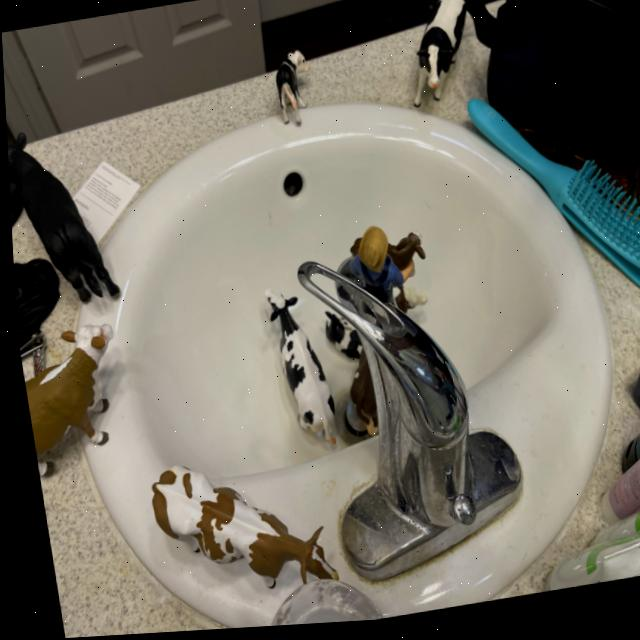cow: (127, 458, 349, 615), (0, 126, 119, 315), (14, 322, 124, 453), (258, 284, 339, 455), (398, 0, 475, 118), (270, 52, 309, 129), (380, 233, 426, 277)
person: (335, 227, 406, 314)
